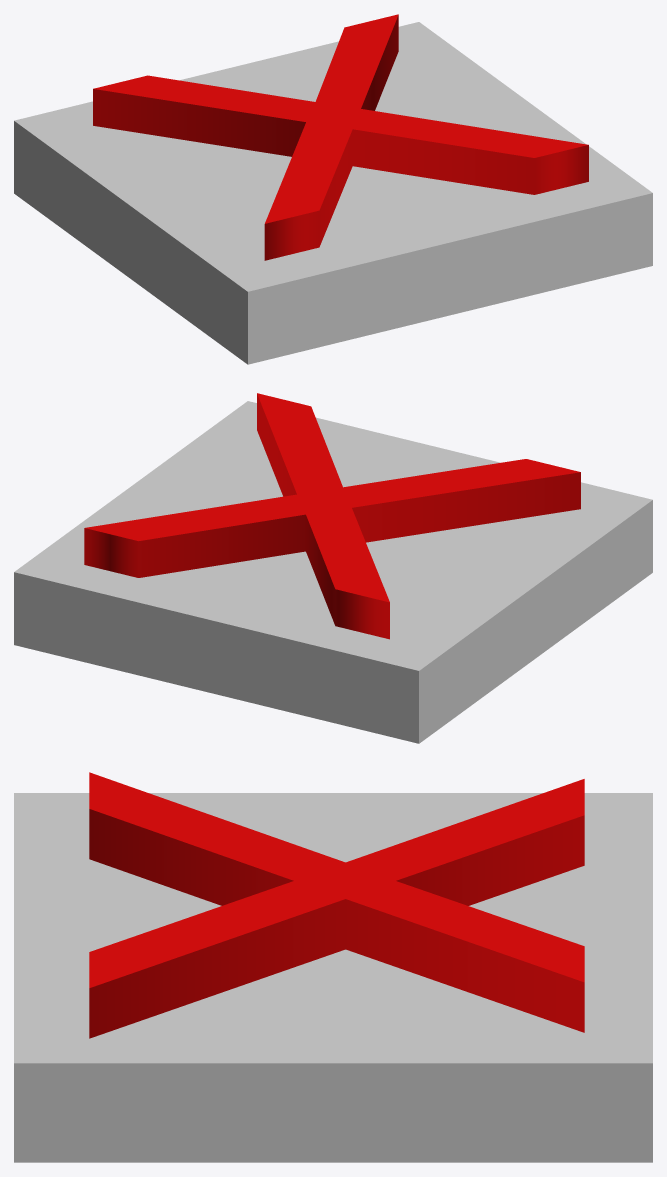
The model's file is Island_Landmark.fbx.
3 views of the same model, one above another, from view 1: azimuth 30°, elevation 25°; view 2: azimuth 150°, elevation 25°; view 3: azimuth 270°, elevation 25° (orthographic). The views are drawn at different scales.
Parts seen in each view (by area): view 1: Text; view 2: Text; view 3: Text.
Boxes of the visible parts, x1,y1,x2,y2 form: Text: (14, 14, 652, 364); Text: (14, 393, 652, 743); Text: (14, 772, 652, 1162).
Size of the model in its own units: 200 by 51.81 by 200.
